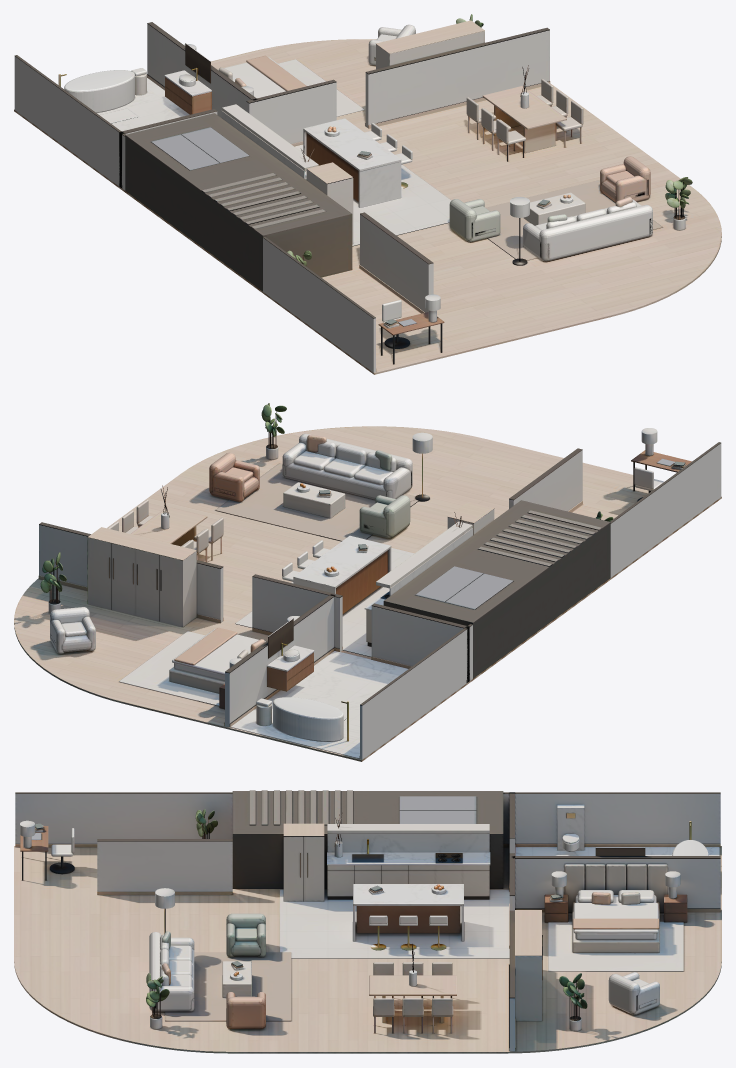
The model's file is half1.glb.
3 renders of one model, top to bottom at view 1: azimuth 30°, elevation 25°; view 2: azimuth 150°, elevation 25°; view 3: azimuth 270°, elevation 25°, orthographic.
Parts seen in each view (by area): view 1: residence; view 2: residence; view 3: residence.
Part boxes in pixels (box(x1,y1,x2,y2)): residence: box(14, 14, 721, 374); residence: box(14, 403, 721, 761); residence: box(14, 790, 721, 1053).
Size of the model in its own units: 10.8 by 1.96 by 15.7.
1 material, 1 textured.
